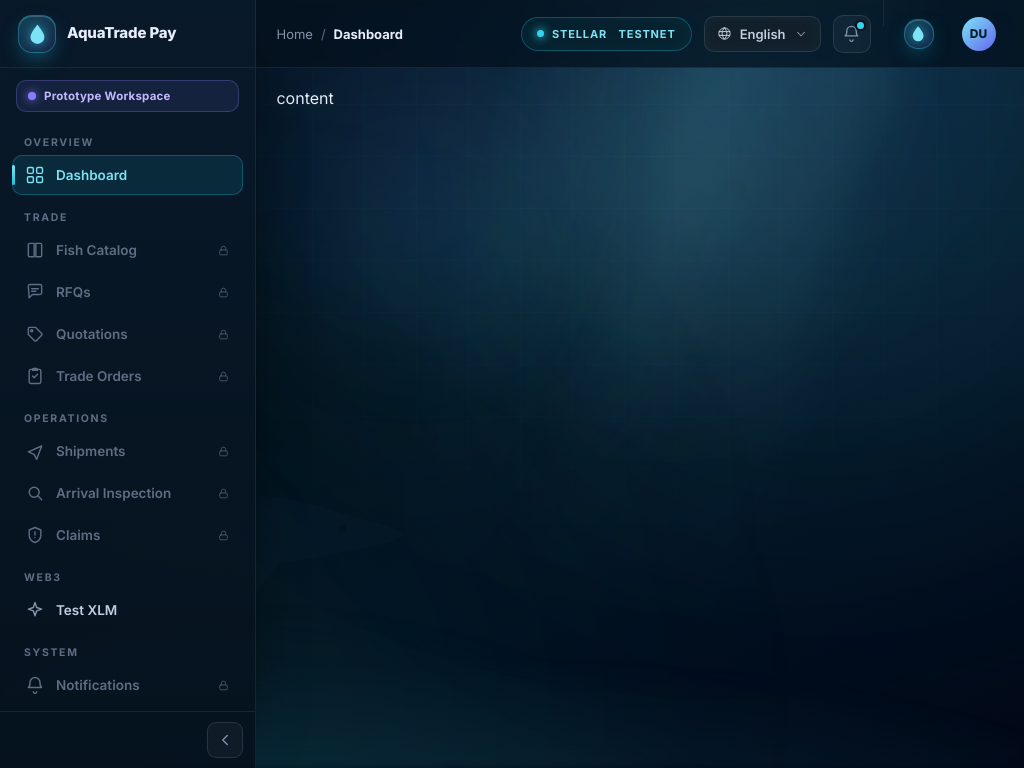
it: DashboardLayout shell › collapses the sidebar via the collapse control
Click the button named "Collapse sidebar".
click(225, 740)  # box [207,722,243,758]
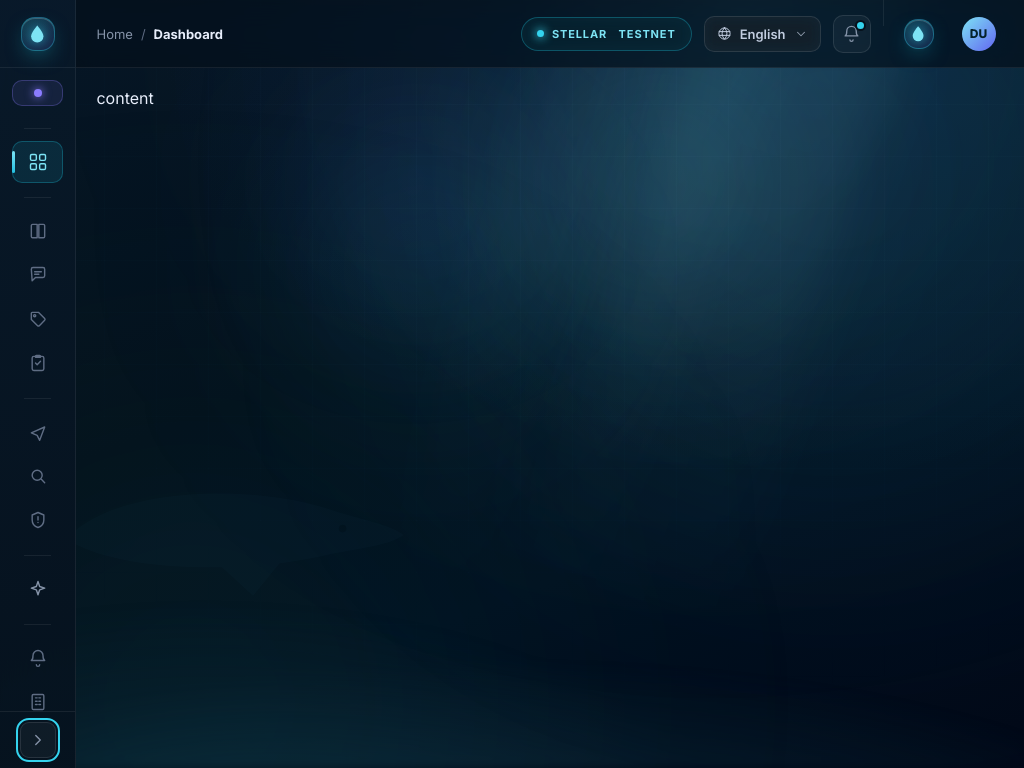
Now the button named "Expand sidebar" is shown, box [20,722,56,758]
